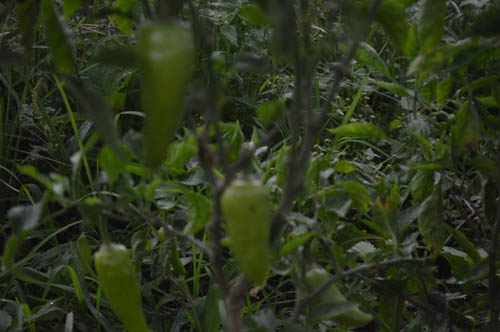ChiliPepper: (137, 23, 181, 170), (223, 183, 271, 284), (90, 251, 146, 330)
